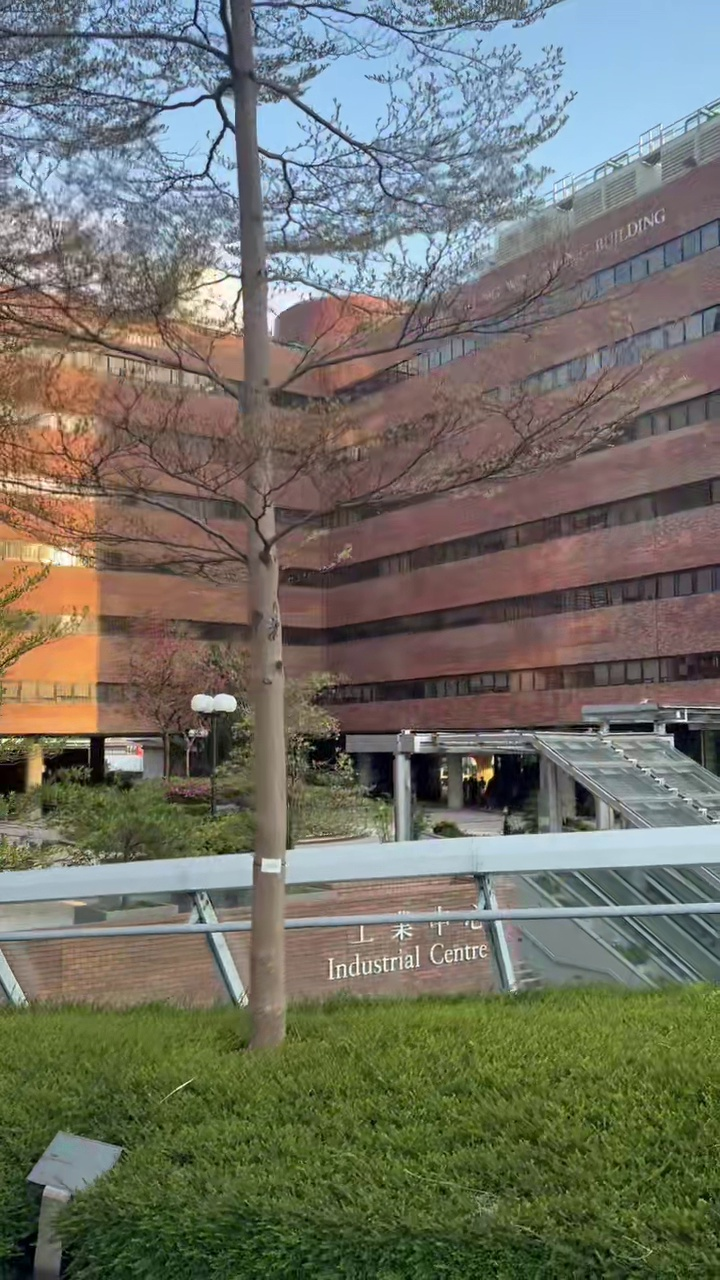Terminalia mantaly: (0, 0, 621, 1048)
